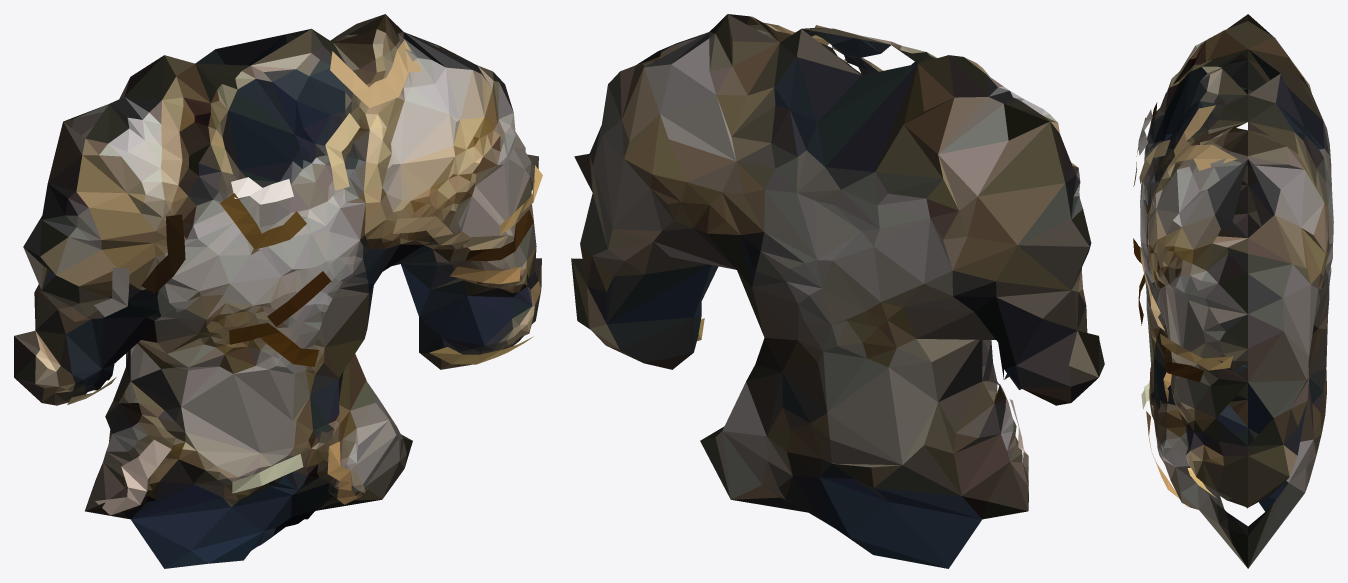
3 views of the same model, side by side, from view 1: azimuth 30°, elevation 25°; view 2: azimuth 150°, elevation 25°; view 3: azimuth 270°, elevation 25° (orthographic). The views are drawn at different scales.
Parts seen in each view (by area): view 1: object 2, detail; view 2: object 2, detail; view 3: object 2, detail.
Part boxes in pixels (x1,y1,x2,y2): object 2: (14, 14, 541, 568); detail: (67, 40, 542, 515); object 2: (571, 14, 1104, 568); detail: (697, 22, 1028, 493); object 2: (1140, 14, 1333, 568); detail: (1133, 102, 1236, 506).
Size of the model in its own units: 172 by 160 by 62.44.
